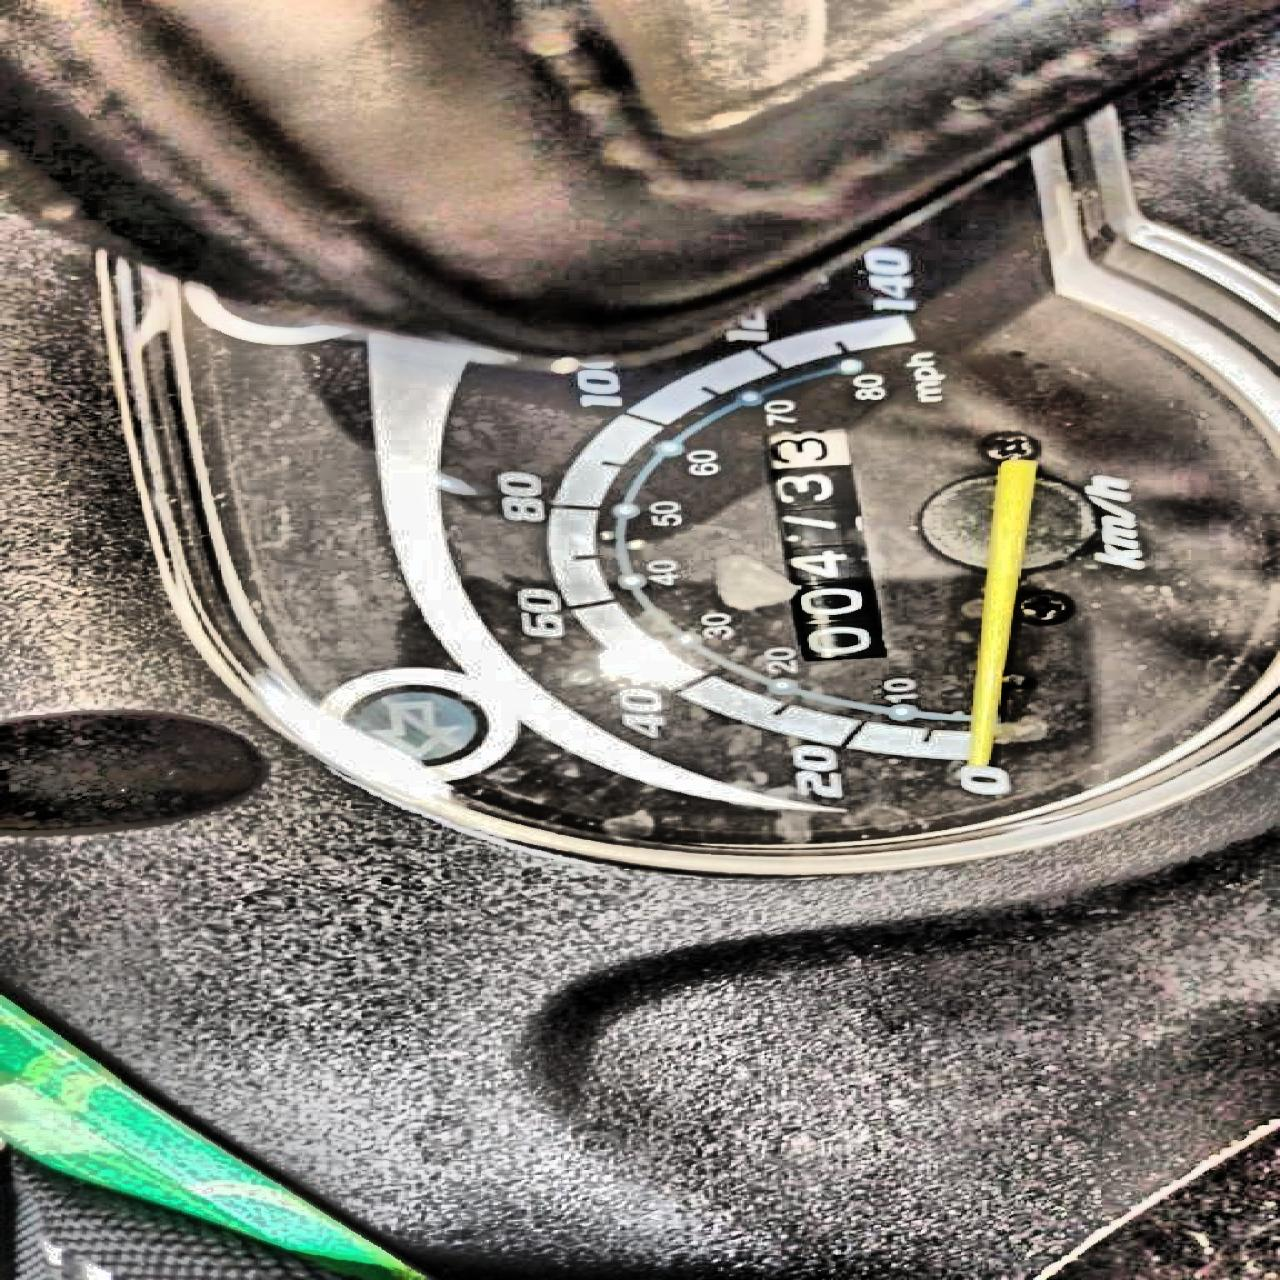0: (791, 585, 869, 615), (804, 624, 876, 655), (761, 645, 796, 660)
2: (762, 659, 799, 673)
3: (769, 471, 833, 504), (764, 434, 826, 464)
4: (779, 546, 853, 578)
7: (771, 511, 838, 542)
odometer: (756, 425, 906, 670)
